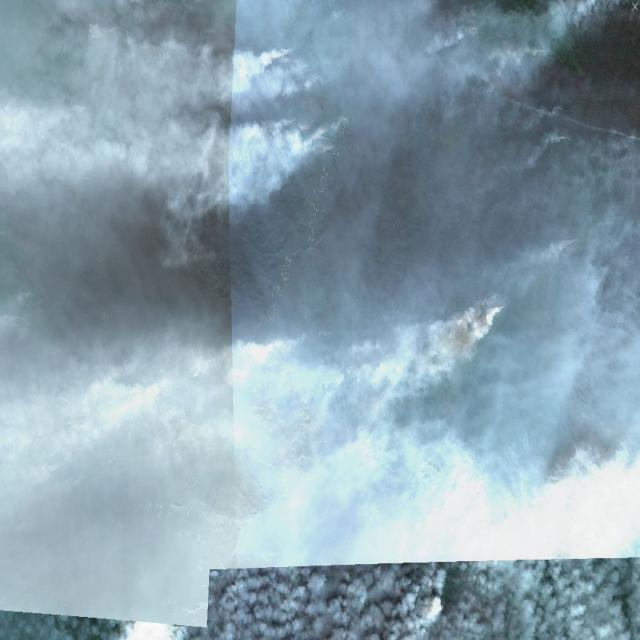fire: (273, 41, 350, 167), (468, 287, 508, 343), (559, 221, 583, 257)
